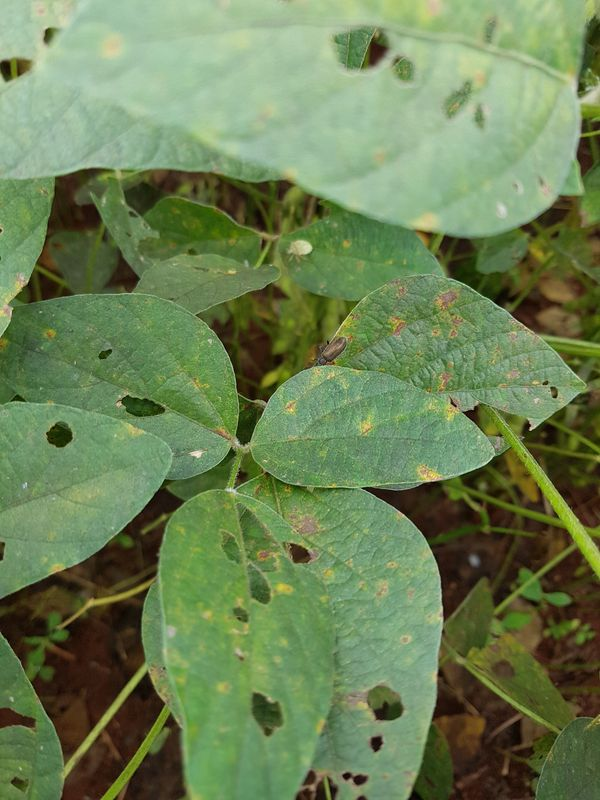Euschistus_heros_ninfa: (277, 231, 325, 270)
Lagria_villosa: (303, 329, 357, 378)
